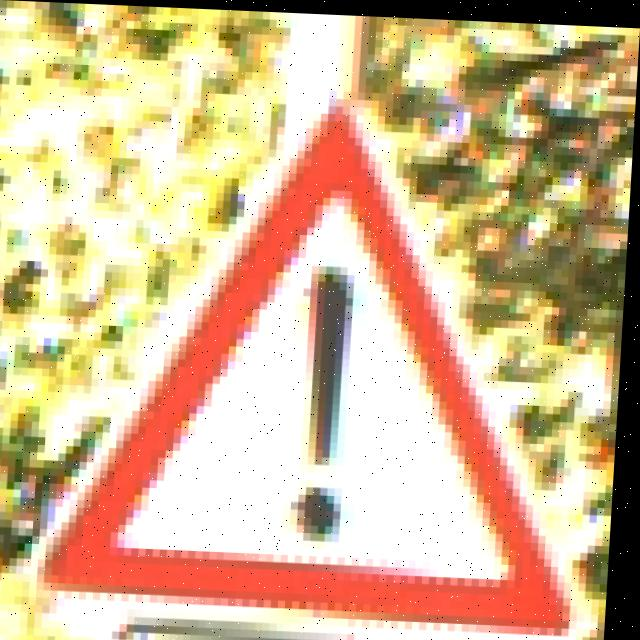warning: (34, 80, 635, 640)
